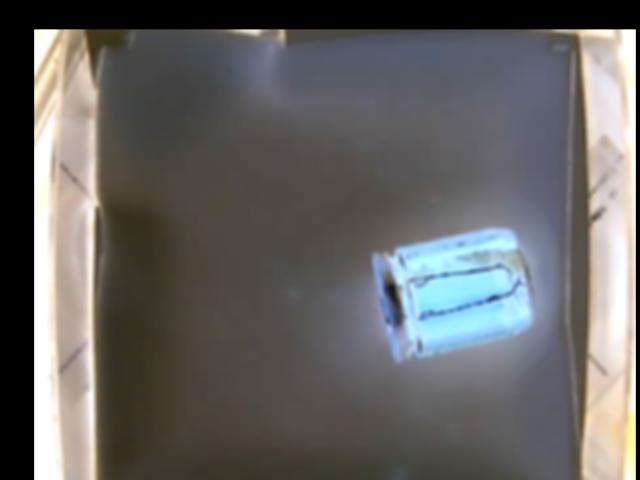Bottle: (371, 225, 534, 364)
